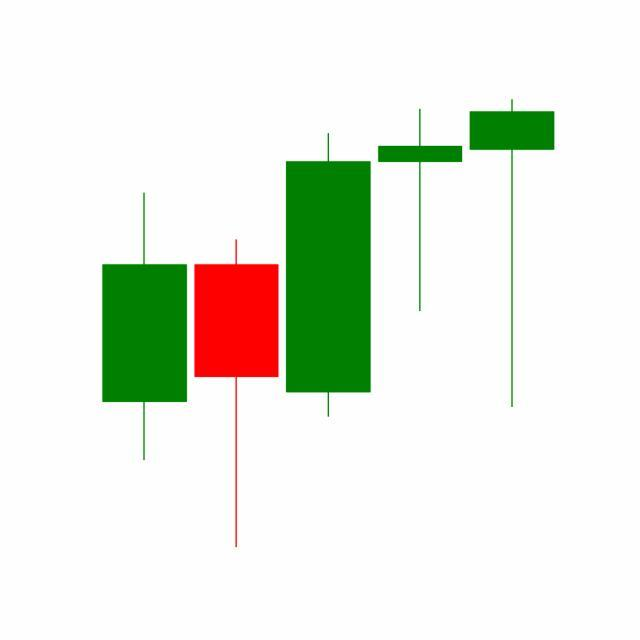Three Outside Up-Down: (190, 105, 467, 549)
